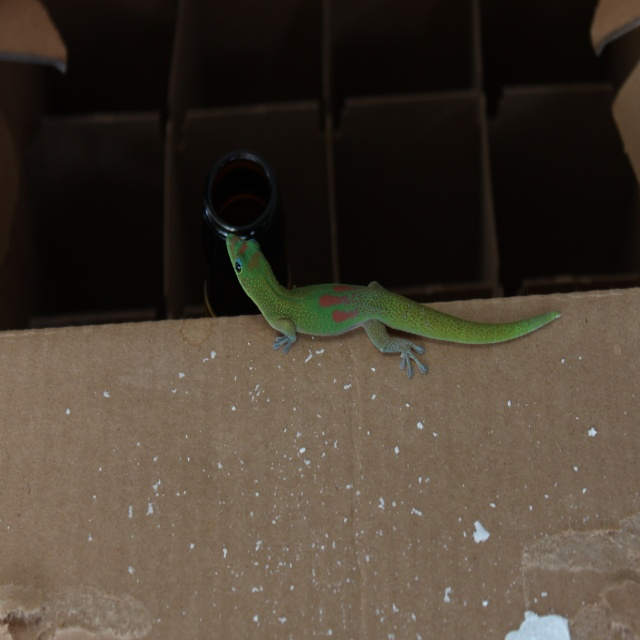Lizard: (214, 201, 557, 379)
